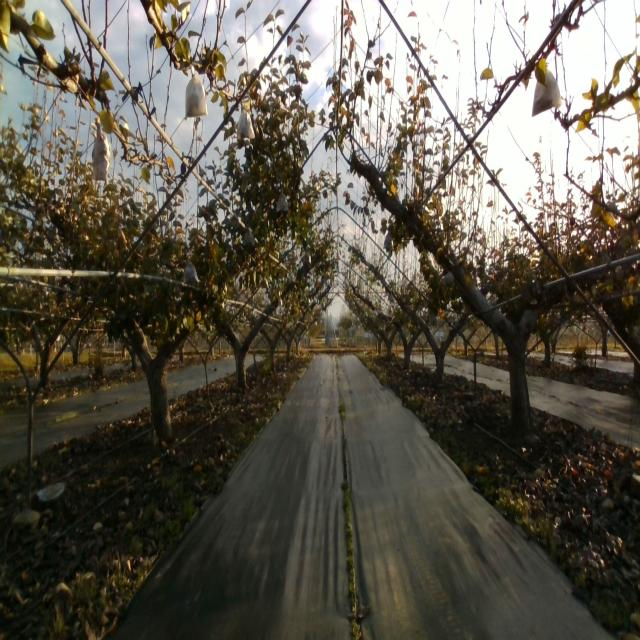pearbags: (532, 71, 560, 117), (184, 65, 207, 120), (91, 115, 109, 181), (237, 102, 255, 140), (182, 257, 199, 288), (242, 225, 256, 248), (276, 187, 288, 212), (444, 270, 455, 288)
